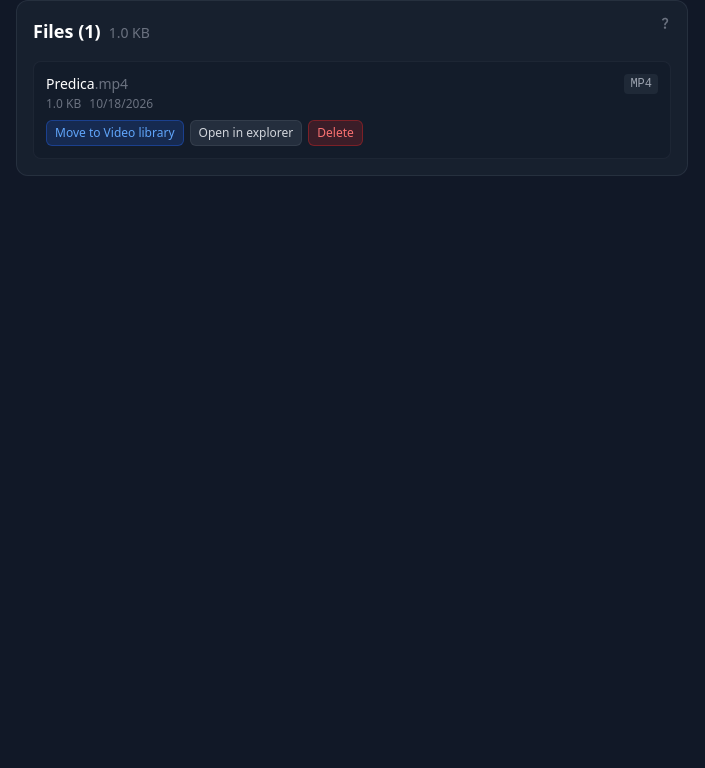
Test case: TransferPage › says so when a move fails, and lets it be tried again
The width and height of the screenshot is (705, 768).
Click the button "Move to Video library".
click(115, 133)  # box [46, 120, 184, 146]
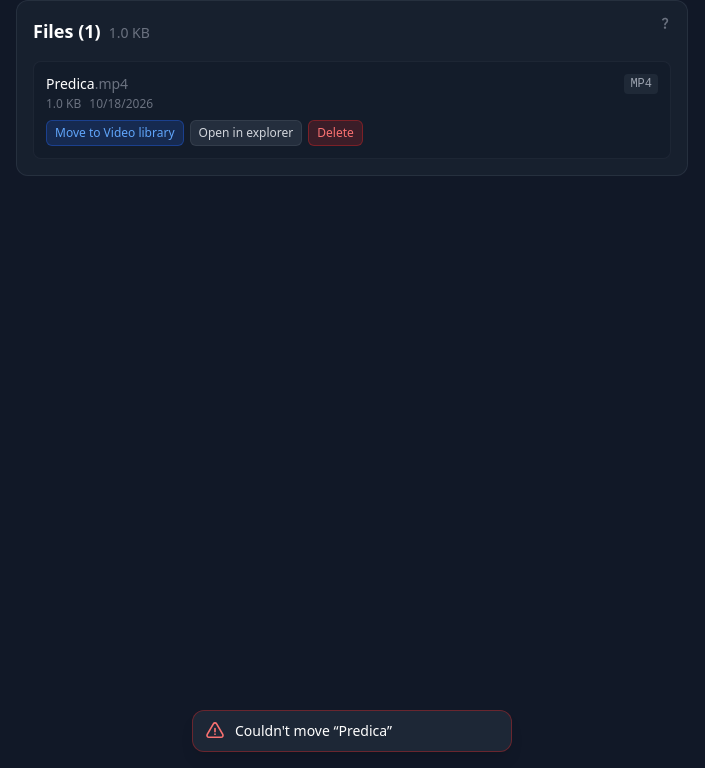
expect the text "Couldn't move “Predica”" is shown: met, box [235, 721, 392, 740]
